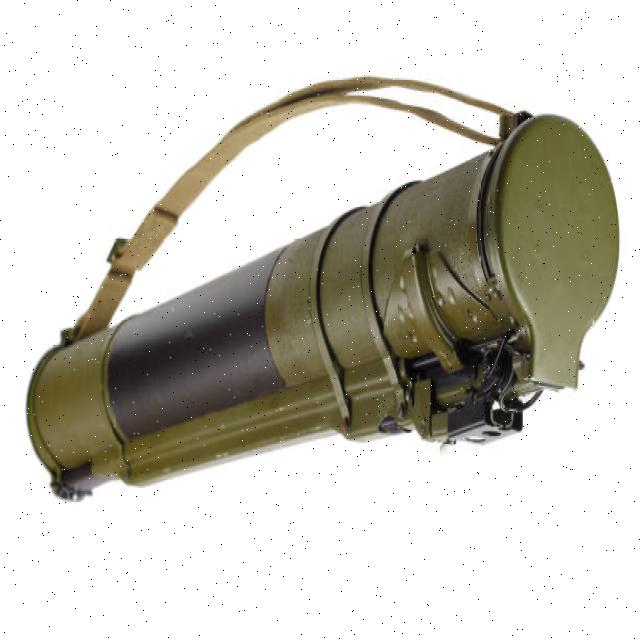bazooka: (15, 73, 630, 513)
